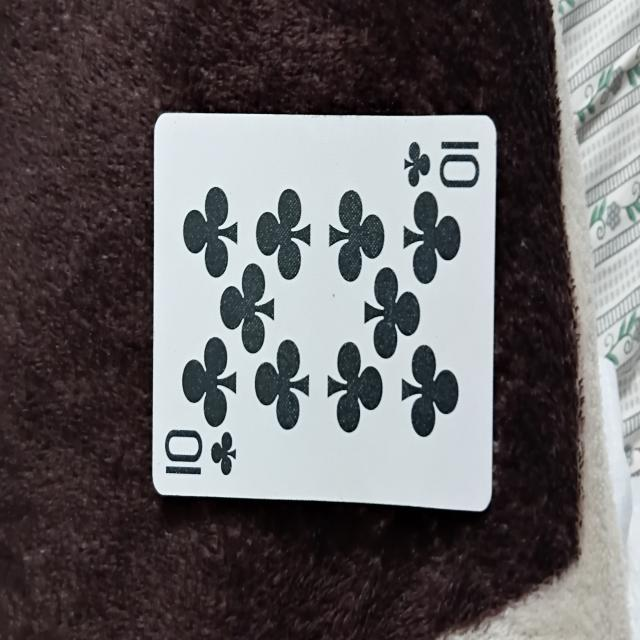10C: (154, 110, 494, 512)
